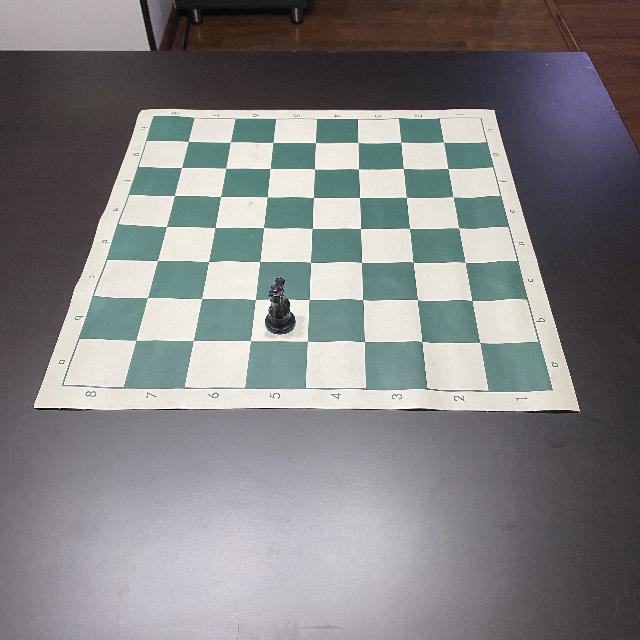black-knight: (264, 276, 296, 334)
board: (34, 106, 582, 412)
